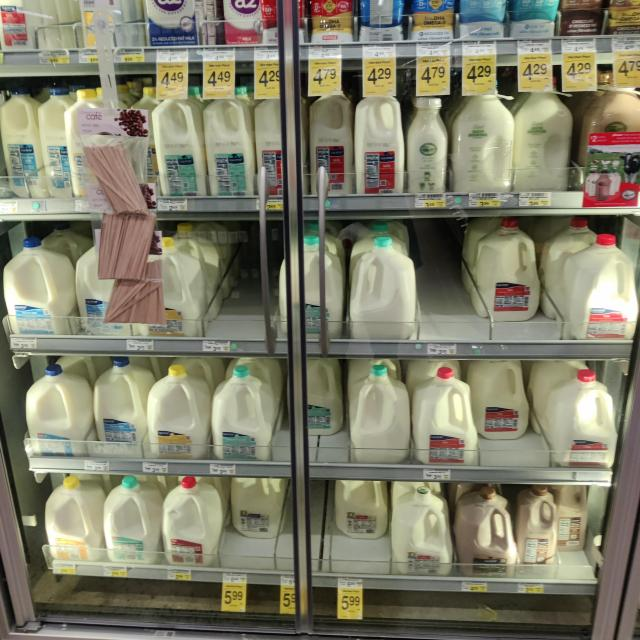Milk: (563, 233, 640, 340), (3, 238, 83, 336), (543, 369, 618, 467), (470, 218, 540, 321), (579, 71, 640, 189), (138, 237, 208, 338), (513, 76, 573, 193), (351, 237, 416, 341), (279, 236, 344, 339), (453, 80, 512, 193), (26, 365, 97, 457), (412, 367, 478, 465), (204, 87, 261, 197), (152, 88, 208, 198), (146, 364, 212, 457), (348, 365, 411, 462), (94, 357, 158, 450), (454, 486, 517, 580), (213, 366, 276, 459), (391, 487, 453, 574), (163, 477, 224, 565), (1, 87, 49, 198), (466, 359, 530, 440), (309, 84, 356, 194), (46, 476, 106, 561), (104, 477, 163, 563), (356, 95, 405, 194), (40, 87, 77, 197), (408, 95, 447, 194), (518, 485, 557, 573), (232, 478, 286, 538), (334, 480, 387, 539)
